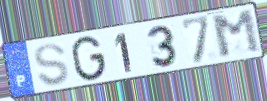1: (113, 31, 134, 74)
3: (145, 23, 180, 70)
7: (180, 14, 212, 66)
G: (70, 34, 108, 83)
M: (209, 8, 264, 61)
S: (33, 42, 71, 88)
